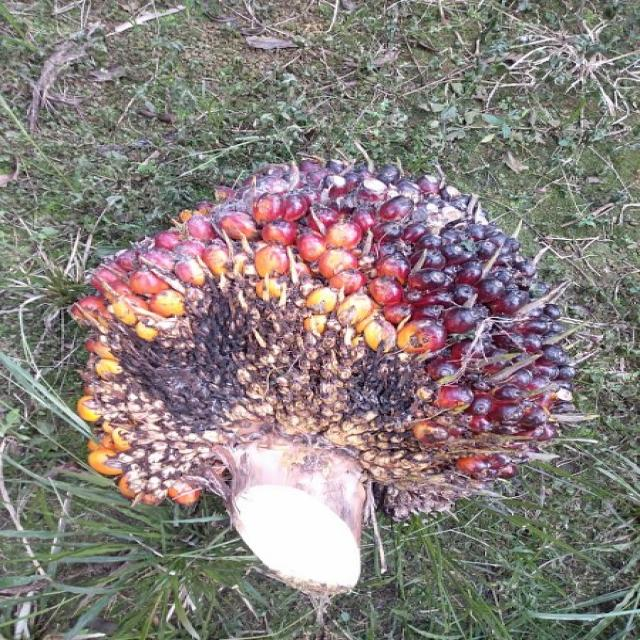fraksi 1: (67, 133, 638, 614)
